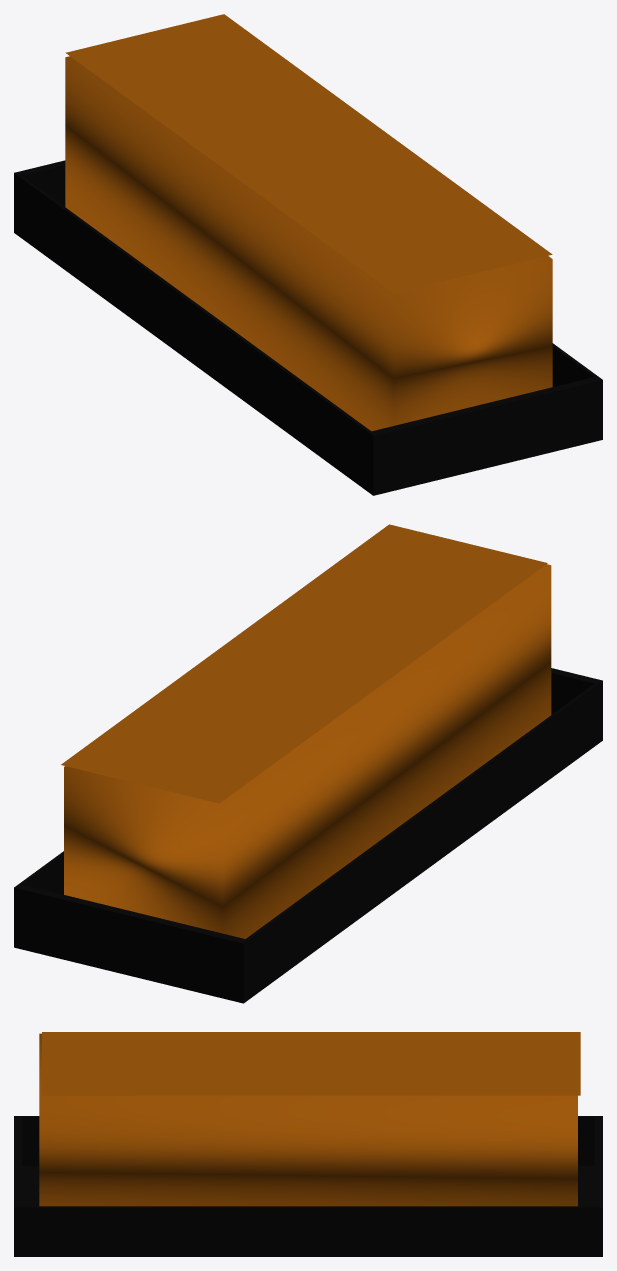
The model's file is BROWNIES. KUKUS.fbx.
3 renders of one model, top to bottom at view 1: azimuth 30°, elevation 25°; view 2: azimuth 150°, elevation 25°; view 3: azimuth 270°, elevation 25°, orthographic. The views are drawn at different scales.
Parts seen in each view (by area): view 1: Cube.002, Cube.001, Cube; view 2: Cube.002, Cube.001, Cube; view 3: Cube.002, Cube, Cube.001.
Boxes of the visible parts, x1,y1,x2,y2 form: Cube.002: (65, 56, 552, 431); Cube.001: (65, 14, 552, 293); Cube: (14, 160, 602, 495); Cube.002: (64, 564, 551, 938); Cube.001: (61, 524, 547, 803); Cube: (14, 668, 602, 1003); Cube.002: (39, 1033, 577, 1206); Cube: (14, 1116, 602, 1256); Cube.001: (42, 1032, 580, 1095).
Size of the model in its own units: 75.65 by 56.9 by 205.
